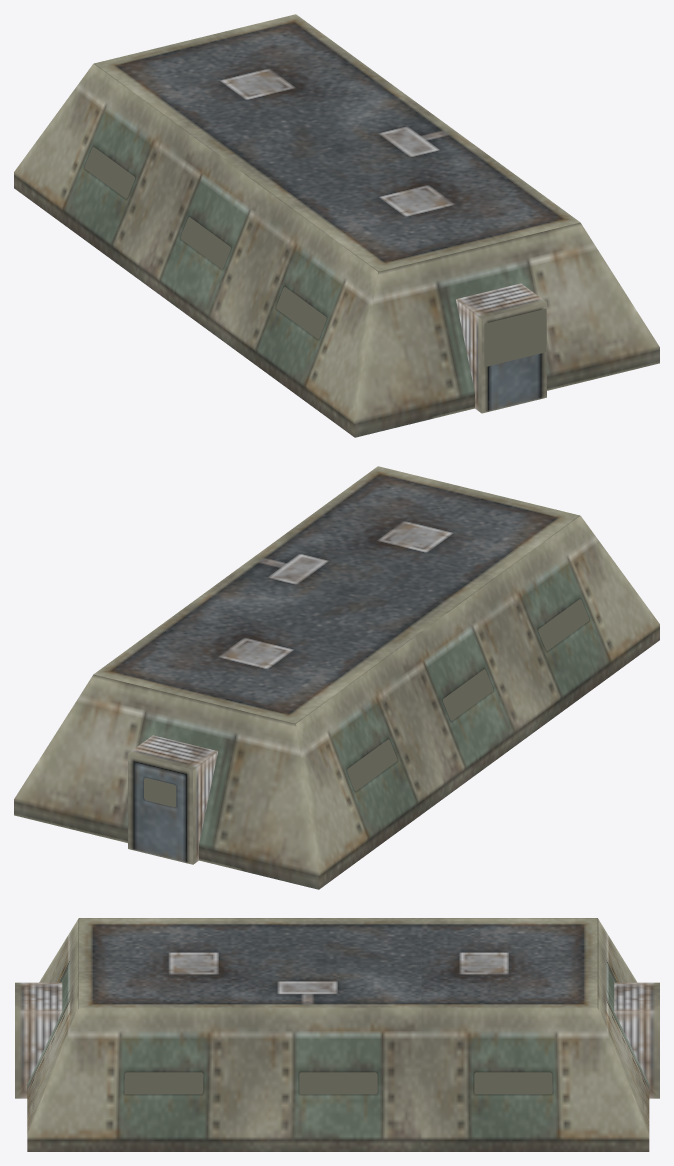
Rendered from barracks.glb.
The picture shows the model from 3 angles, top to bottom: view 1: azimuth 30°, elevation 25°; view 2: azimuth 150°, elevation 25°; view 3: azimuth 270°, elevation 25°; orthographic projection. The views are drawn at different scales.
Visible parts, largest first — view 1: Barracks, LitWin_Barracks; view 2: Barracks, LitWin_Barracks; view 3: Barracks, LitWin_Barracks.
Part boxes in pixels (x1,y1,x2,y2): Barracks: [14, 14, 659, 437]; LitWin_Barracks: [84, 147, 546, 367]; Barracks: [14, 466, 659, 889]; LitWin_Barracks: [144, 599, 589, 807]; Barracks: [15, 918, 659, 1151]; LitWin_Barracks: [124, 1072, 552, 1094].
Bounding box in the file's own units: 8.42 × 3.5 × 16.94.
Materials: 1 (1 with a texture image).
